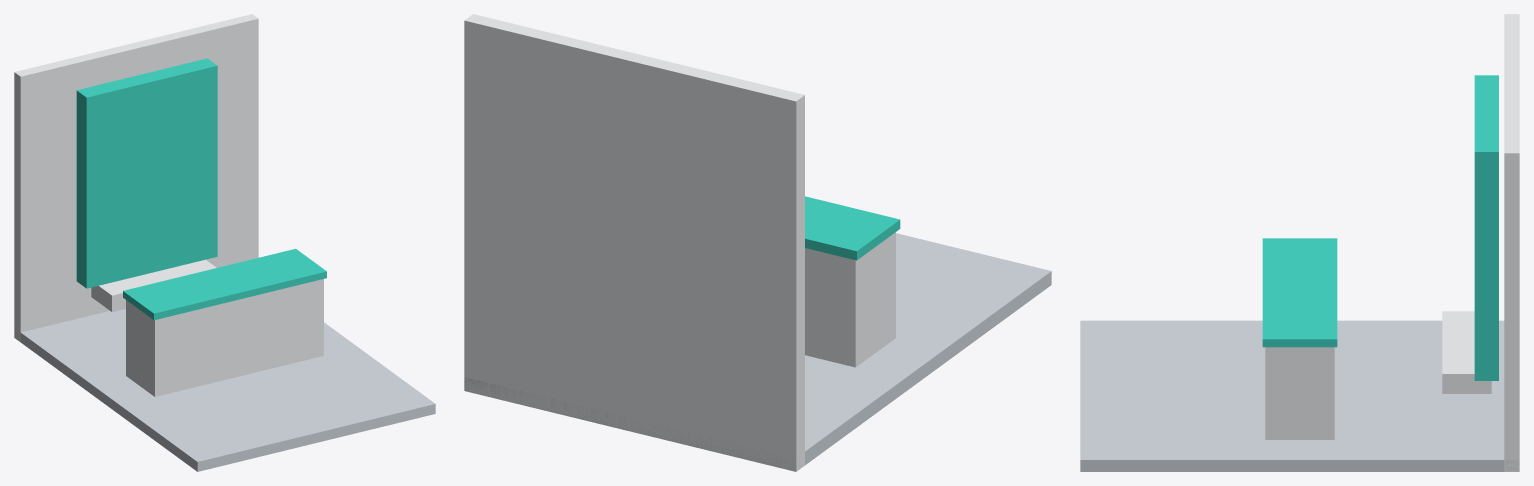
The picture shows the model from 3 angles, left to right: view 1: azimuth 30°, elevation 25°; view 2: azimuth 150°, elevation 25°; view 3: azimuth 270°, elevation 25°; orthographic projection. The views are drawn at different scales.
Parts seen in each view (by area): view 1: Exhibition Booth Concept; view 2: Exhibition Booth Concept; view 3: Exhibition Booth Concept.
Part boxes in pixels (x1=…): Exhibition Booth Concept: x1=14, y1=14, x2=435, y2=471; Exhibition Booth Concept: x1=464, y1=14, x2=1051, y2=471; Exhibition Booth Concept: x1=1080, y1=14, x2=1519, y2=471.
Size of the model in its own units: 3 by 3.2 by 4.
